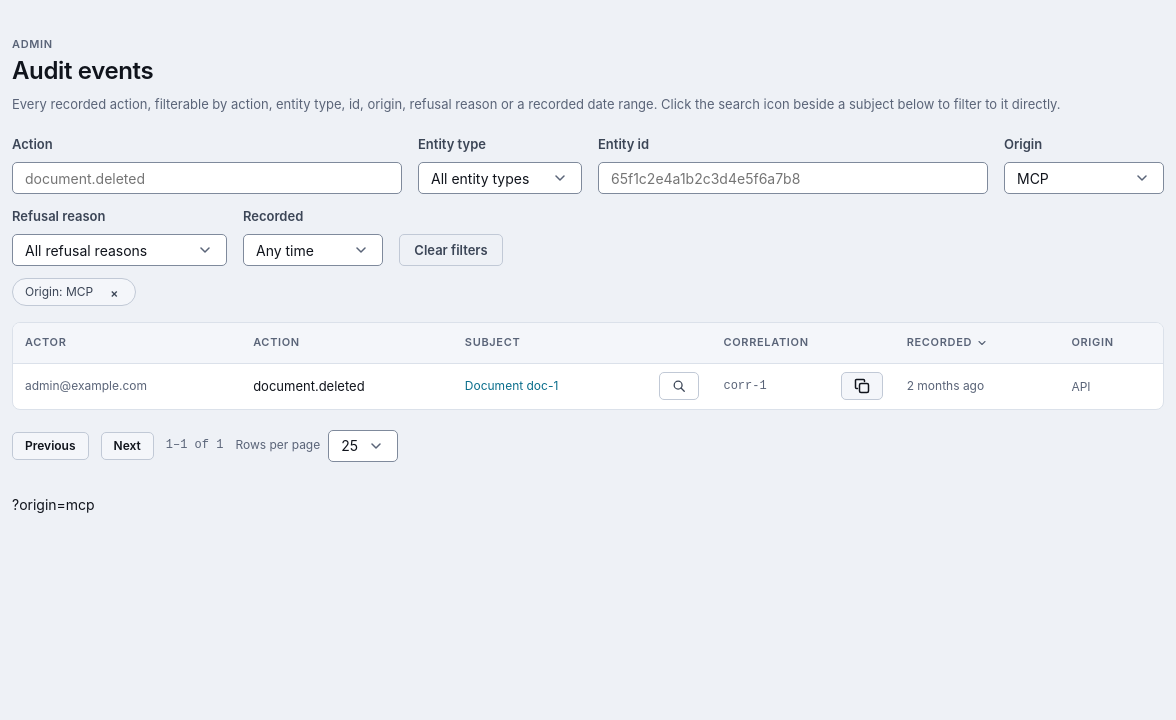
Test: AuditEventsPage › clears unapplied drafts in both text filters and their timers on Clear filters
Check: the text "document.deleted" is shown, box [241,364,453,409]
Type "abc" into the search field labelled "Action" at [207, 178], box [12,162,402,194]
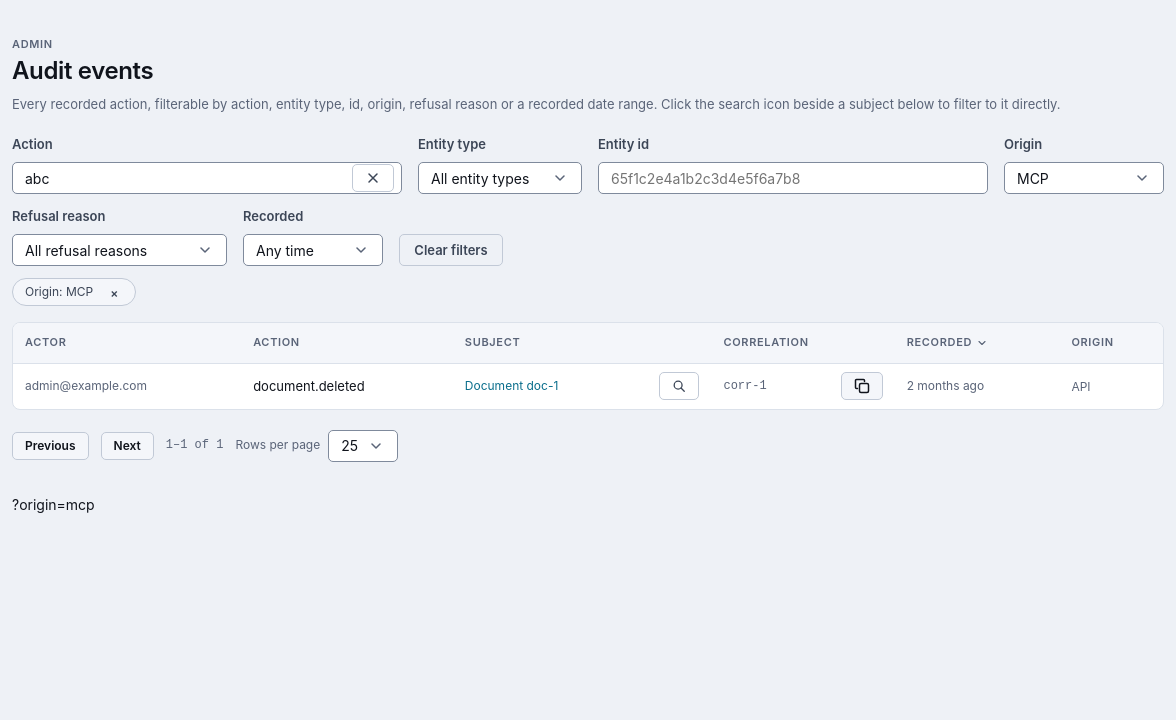
Type "bad" into the field labelled "Entity id" at [793, 178], box [598,162,988,194]
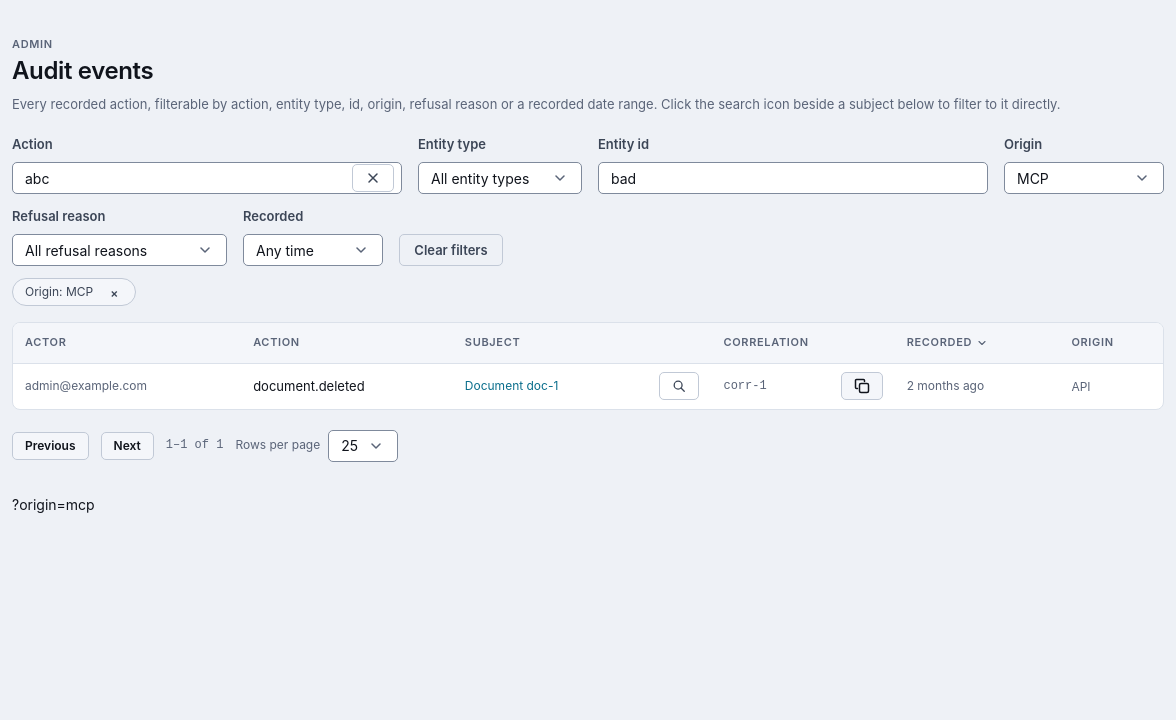
Click the button "Clear filters" at [451, 250], box [399,234,503,266]
Wait 1000 ms
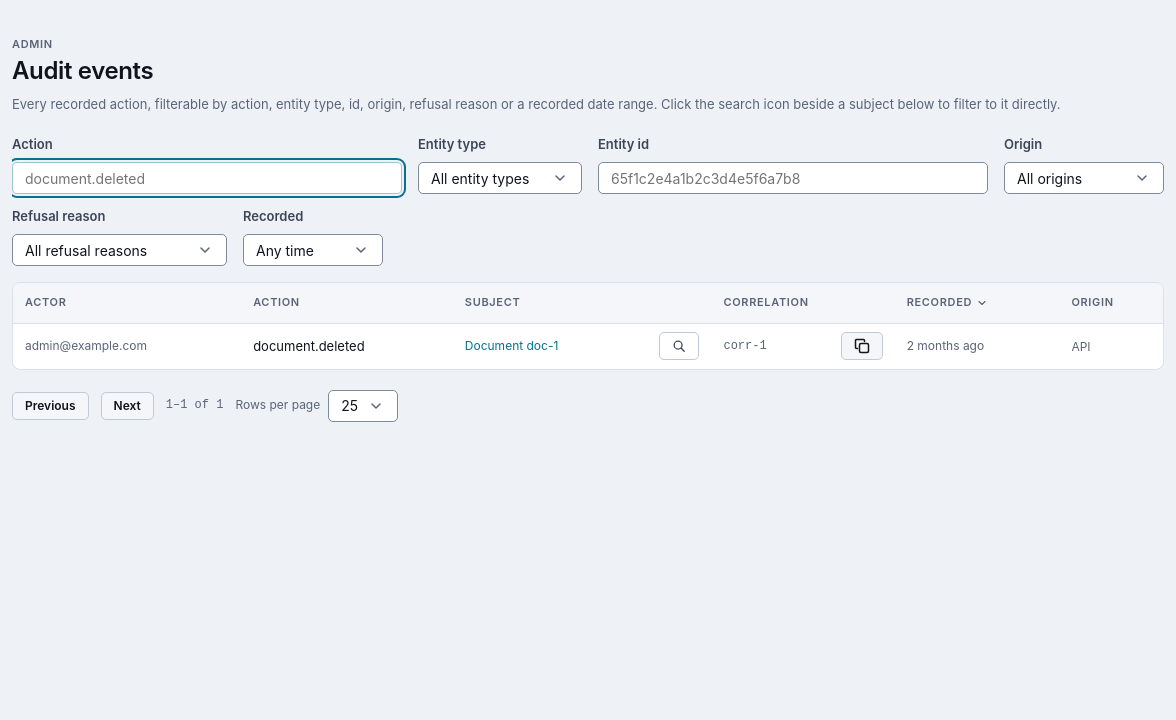
Check: the search field labelled "Action" is empty, box [12,162,402,194]
Check: the field labelled "Entity id" is empty, box [598,162,988,194]
